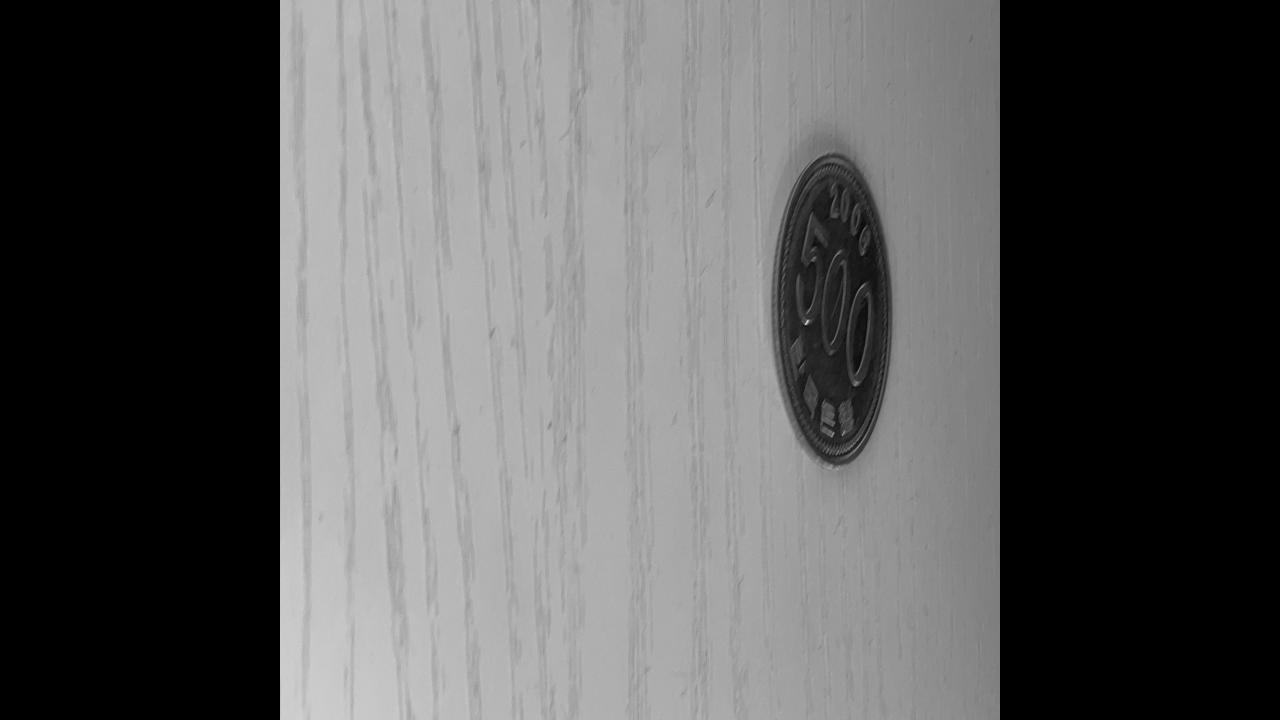coin: (772, 142, 892, 470)
